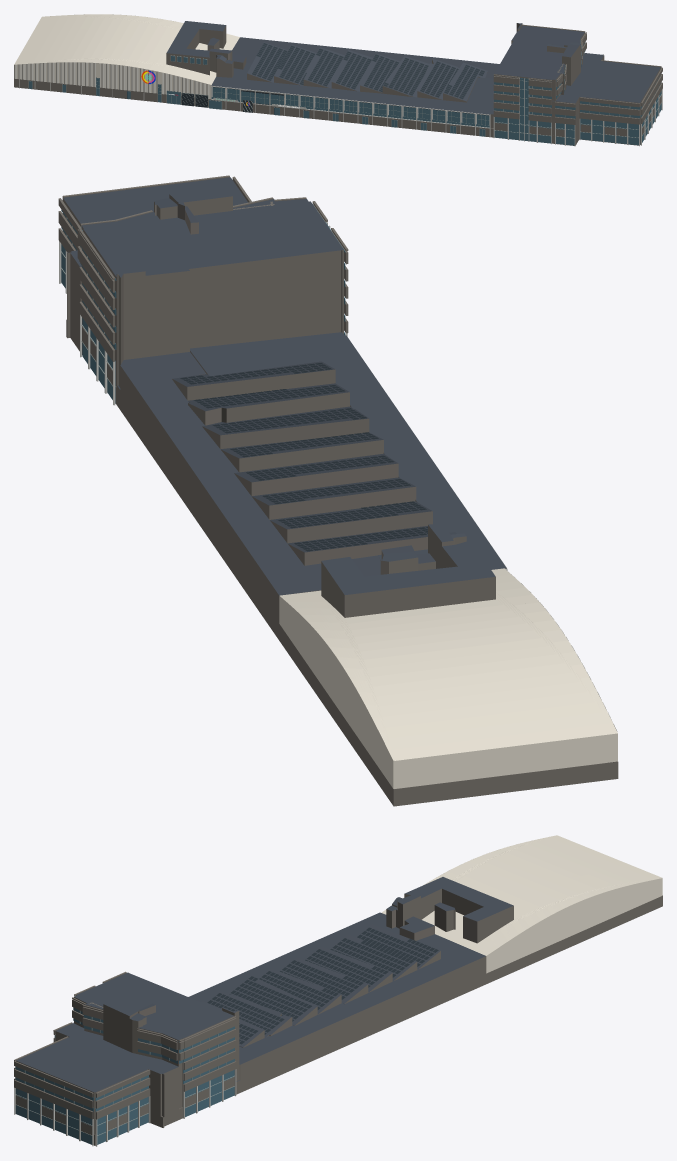
The model's file is beest-boulders.glb.
3 views of the same model, one above another, from view 1: azimuth 30°, elevation 25°; view 2: azimuth 150°, elevation 25°; view 3: azimuth 270°, elevation 25° (orthographic). The views are drawn at different scales.
Parts seen in each view (by area): view 1: beest-boulders, beest-boulders-precise; view 2: beest-boulders, beest-boulders-precise; view 3: beest-boulders, beest-boulders-precise.
Boxes of the visible parts, x1=… form: beest-boulders: x1=14, y1=14, x2=662, y2=146; beest-boulders-precise: x1=140, y1=67, x2=574, y2=145; beest-boulders: x1=58, y1=175, x2=618, y2=806; beest-boulders-precise: x1=79, y1=334, x2=545, y2=805; beest-boulders: x1=14, y1=835, x2=662, y2=1146; beest-boulders-precise: x1=176, y1=877, x2=662, y2=1120.
Size of the model in its own units: 185 by 27.12 by 179.
